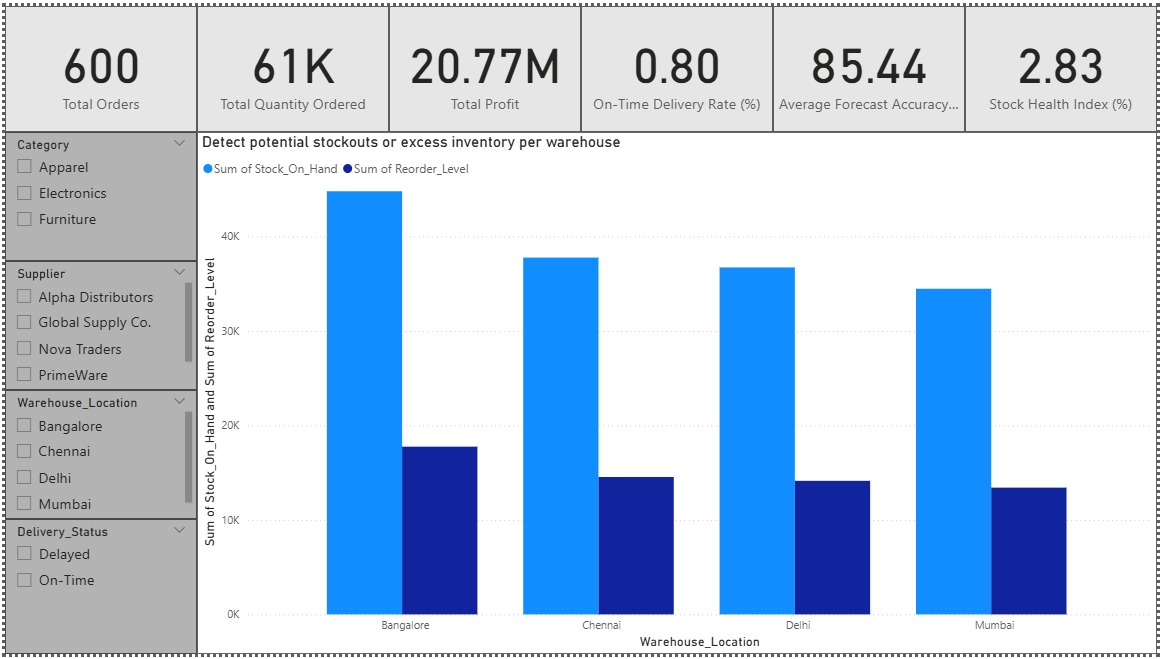

What the dashboard file says about the page in this screenshot:
{"tool":"powerbi","page":{"name":"Page 3","canvas":[1280,720],"ordinal":2},"visuals":[{"type":"card","fields":{"Values":["Measures (2).Total Orders"]},"box":[0,0,213.3,140],"z":0},{"type":"card","fields":{"Values":["Measures (2).Total Profit"]},"box":[426.7,0,213.3,140],"z":1},{"type":"card","fields":{"Values":["Measures (2).Average Forecast Accuracy (%)"]},"box":[853.3,0,213.3,140],"z":2},{"type":"card","fields":{"Values":["Measures (2).Total Quantity Ordered"]},"box":[213.3,0,213.3,140],"z":3},{"type":"card","fields":{"Values":["Measures (2).On-Time Delivery Rate (%)"]},"box":[640,0,213.3,140],"z":4},{"type":"card","fields":{"Values":["Measures (2).Stock Health Index (%)"]},"box":[1066.7,0,213.3,140],"z":5},{"type":"slicer","fields":{"Values":["Supply_Chain_Inventory_Optimization.Category"]},"box":[0,140,213.3,143.3],"z":6},{"type":"slicer","fields":{"Values":["Supply_Chain_Inventory_Optimization.Supplier"]},"box":[0,283.3,213.3,143.3],"z":7},{"type":"slicer","fields":{"Values":["Supply_Chain_Inventory_Optimization.Warehouse_Location"]},"box":[0,426.7,213.3,143.3],"z":8},{"type":"slicer","fields":{"Values":["Supply_Chain_Inventory_Optimization.Delivery_Status"]},"box":[0,570,213.3,150],"z":9},{"type":"clusteredColumnChart","title":"Detect potential stockouts or excess inventory per warehouse","fields":{"Category":["Supply_Chain_Inventory_Optimization.Warehouse_Location"],"Y":["Sum(Supply_Chain_Inventory_Optimization.Stock_On_Hand)","Sum(Supply_Chain_Inventory_Optimization.Reorder_Level)"]},"box":[213.3,140,1066.7,580],"z":10}]}

Visuals, with their boxes in screenshot pixels (x1, y1, x2, y2), scaled from the page's 1280x720 canvas onto the 1163x659 screenshot:
card - Measures (2).Total Orders: {"left": 0, "top": 0, "right": 194, "bottom": 128}
card - Measures (2).Total Profit: {"left": 388, "top": 0, "right": 582, "bottom": 128}
card - Measures (2).Average Forecast Accuracy (%): {"left": 775, "top": 0, "right": 969, "bottom": 128}
card - Measures (2).Total Quantity Ordered: {"left": 194, "top": 0, "right": 388, "bottom": 128}
card - Measures (2).On-Time Delivery Rate (%): {"left": 582, "top": 0, "right": 775, "bottom": 128}
card - Measures (2).Stock Health Index (%): {"left": 969, "top": 0, "right": 1162, "bottom": 128}
slicer - Supply_Chain_Inventory_Optimization.Category: {"left": 0, "top": 128, "right": 194, "bottom": 259}
slicer - Supply_Chain_Inventory_Optimization.Supplier: {"left": 0, "top": 259, "right": 194, "bottom": 390}
slicer - Supply_Chain_Inventory_Optimization.Warehouse_Location: {"left": 0, "top": 391, "right": 194, "bottom": 522}
slicer - Supply_Chain_Inventory_Optimization.Delivery_Status: {"left": 0, "top": 522, "right": 194, "bottom": 658}
"Detect potential stockouts or excess inventory per warehouse" clusteredColumnChart: {"left": 194, "top": 128, "right": 1162, "bottom": 658}
